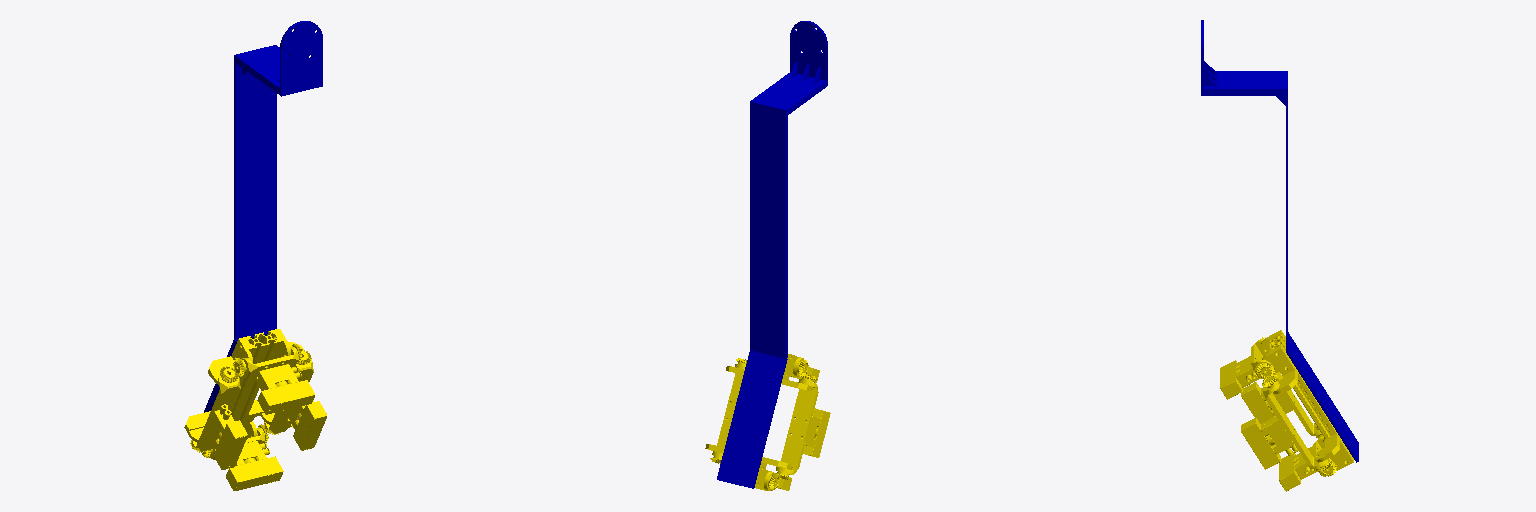
robot.urdf — S20:
<?xml version="1.0" ?>
<!-- =================================================================================== -->
<!-- |    This document was autogenerated by xacro from S20.urdf.xacro                 | -->
<!-- |    EDITING THIS FILE BY HAND IS NOT RECOMMENDED                                 | -->
<!-- =================================================================================== -->
<robot name="S20">
  <material name="black">
    <color rgba="0.0 0.0 0.0 1.0"/>
  </material>
  <material name="blue">
    <color rgba="0.0 0.0 0.8 1.0"/>
  </material>
  <material name="green">
    <color rgba="0.0 0.8 0.0 1.0"/>
  </material>
  <material name="grey">
    <color rgba="0.2 0.2 0.2 1.0"/>
  </material>
  <material name="orange">
    <color rgba="1.0 0.4235294117647059 0.0392156862745098 1.0"/>
  </material>
  <material name="brown">
    <color rgba="0.8705882352941177 0.8117647058823529 0.7647058823529411 1.0"/>
  </material>
  <material name="red">
    <color rgba="0.8 0.0 0.0 1.0"/>
  </material>
  <material name="white">
    <color rgba="1.0 1.0 1.0 1.0"/>
  </material>
  <material name="metal">
    <color rgba="0.768627450980392 0.749019607843137 0.729411764705882 1"/>
  </material>
  <material name="metal_grey">
    <color rgba="0.501960784313725 0.501960784313725 0.501960784313725 1"/>
  </material>
  <material name="metal_white">
    <color rgba="0.866666666666667 0.866666666666667 0.890196078431373 1"/>
  </material>
  <!-- ros_control plugin -->
  <gazebo>
    <plugin filename="libgazebo_ros_control.so" name="gazebo_ros_control">
      <robotSimType>gazebo_ros_control/DefaultRobotHWSim</robotSimType>
      <legacyModeNS>true</legacyModeNS>
    </plugin>
  </gazebo>
  <gazebo reference="elfin_link2">
    <visual name="visual">
      <material>
        <script>
          <uri>file:/[local-path]/scripts/gazebo.material</uri>
          <name>Gazebo/Grey</name>
        </script>
      </material>
    </visual>
  </gazebo>
  <gazebo reference="elfin_link4">
    <visual name="visual">
      <material>
        <script>
          <uri>file:/[local-path]/scripts/gazebo.material</uri>
          <name>Gazebo/Grey</name>
        </script>
      </material>
    </visual>
  </gazebo>
  <transmission name="elfin_joint1_trans">
    <type>transmission_interface/SimpleTransmission</type>
    <joint name="elfin_joint1">
      <hardwareInterface>hardware_interface/PositionJointInterface</hardwareInterface>
    </joint>
    <actuator name="elfin_joint1_motor">
      <mechanicalReduction>1</mechanicalReduction>
    </actuator>
  </transmission>
  <transmission name="elfin_joint2_trans">
    <type>transmission_interface/SimpleTransmission</type>
    <joint name="elfin_joint2">
      <hardwareInterface>hardware_interface/PositionJointInterface</hardwareInterface>
    </joint>
    <actuator name="elfin_joint2_motor">
      <mechanicalReduction>1</mechanicalReduction>
    </actuator>
  </transmission>
  <transmission name="elfin_joint3_trans">
    <type>transmission_interface/SimpleTransmission</type>
    <joint name="elfin_joint3">
      <hardwareInterface>hardware_interface/PositionJointInterface</hardwareInterface>
    </joint>
    <actuator name="elfin_joint3_motor">
      <mechanicalReduction>1</mechanicalReduction>
    </actuator>
  </transmission>
  <transmission name="elfin_joint4_trans">
    <type>transmission_interface/SimpleTransmission</type>
    <joint name="elfin_joint4">
      <hardwareInterface>hardware_interface/PositionJointInterface</hardwareInterface>
    </joint>
    <actuator name="elfin_joint4_motor">
      <mechanicalReduction>1</mechanicalReduction>
    </actuator>
  </transmission>
  <transmission name="elfin_joint5_trans">
    <type>transmission_interface/SimpleTransmission</type>
    <joint name="elfin_joint5">
      <hardwareInterface>hardware_interface/PositionJointInterface</hardwareInterface>
    </joint>
    <actuator name="elfin_joint5_motor">
      <mechanicalReduction>1</mechanicalReduction>
    </actuator>
  </transmission>
  <transmission name="elfin_joint6_trans">
    <type>transmission_interface/SimpleTransmission</type>
    <joint name="elfin_joint6">
      <hardwareInterface>hardware_interface/PositionJointInterface</hardwareInterface>
    </joint>
    <actuator name="elfin_joint6_motor">
      <mechanicalReduction>1</mechanicalReduction>
    </actuator>
  </transmission>
  <link name="world"/>
  <joint name="world_base" type="fixed">
    <origin rpy="0 0 0" xyz="0 0 0"/>
    <parent link="world"/>
    <child link="elfin_base_link"/>
  </joint>
  <link name="elfin_base_link"/>
  <joint name="elfin_base_joint" type="fixed">
    <origin rpy="0 0 0" xyz="0 0 0"/>
    <parent link="elfin_base_link"/>
    <child link="elfin_base"/>
  </joint>
  <link name="elfin_base">
    <inertial>
      <origin rpy="0 0 0" xyz="-0.00131650768656017 3.86349405459754E-05 0.0343213199540785"/>
      <mass value="2.32181468230125"/>
      <inertia ixx="0.00741739022505177" ixy="-9.4225231258528E-05" ixz="-5.45619950886553E-05" iyy="0.00699483778046143" iyz="1.30022773204213E-06" izz="0.0123390065438587"/>
    </inertial>
    <visual>
      <origin rpy="0 0 0" xyz="0 0 0"/>
      <geometry>
        <mesh filename="package://elfin_description/meshes/S20/elfin_base.STL"/>
      </geometry>
      <material name="">
        <color rgba="0.752941176470588 0.752941176470588 0.752941176470588 1"/>
      </material>
    </visual>
    <collision>
      <origin rpy="0 0 0" xyz="0 0 0"/>
      <geometry>
        <mesh filename="package://elfin_description/meshes/S20/elfin_base.STL"/>
      </geometry>
    </collision>
  </link>
  <link name="elfin_link1">
    <inertial>
      <origin rpy="0 0 0" xyz="-1.0792519167212E-07 -0.0224399626110038 0.00175002240516534"/>
      <mass value="6.93455742496729"/>
      <inertia ixx="0.0460589183335357" ixy="5.43718136375216E-07" ixz="2.96738634298801E-07" iyy="0.0375916708812216" iyz="-0.000245581780149179" izz="0.0394268304468804"/>
    </inertial>
    <visual>
      <origin rpy="0 0 0" xyz="0 0 0"/>
      <geometry>
        <mesh filename="package://elfin_description/meshes/S20/elfin_link1.STL"/>
      </geometry>
      <material name="">
        <color rgba="0.898039215686275 0.917647058823529 0.929411764705882 1"/>
      </material>
    </visual>
    <collision>
      <origin rpy="0 0 0" xyz="0 0 0"/>
      <geometry>
        <mesh filename="package://elfin_description/meshes/S20/elfin_link1.STL"/>
      </geometry>
    </collision>
  </link>
  <joint name="elfin_joint1" type="revolute">
    <origin rpy="0 0 0" xyz="0 0 0.171"/>
    <parent link="elfin_base"/>
    <child link="elfin_link1"/>
    <axis xyz="0 0 1"/>
    <limit effort="200" lower="-6.28" upper="6.28" velocity="1.57"/>
  </joint>
  <link name="elfin_link2">
    <inertial>
      <origin rpy="0 0 0" xyz="-0.370229694350317 9.38128437405483E-07 0.000899041883029139"/>
      <mass value="18.8395085758056"/>
      <inertia ixx="0.0687507132351259" ixy="-5.05507420279161E-07" ixz="-6.41343868263508E-05" iyy="0.411200291693132" iyz="-1.80729528146994E-07" izz="0.40138597350588"/>
    </inertial>
    <visual>
      <origin rpy="0 0 0" xyz="0 0 0"/>
      <geometry>
        <mesh filename="package://elfin_description/meshes/S20/elfin_link2.STL"/>
      </geometry>
      <material name="">
        <color rgba="0.752941176470588 0.752941176470588 0.752941176470588 1"/>
      </material>
    </visual>
    <collision>
      <origin rpy="0 0 0" xyz="0 0 0"/>
      <geometry>
        <mesh filename="package://elfin_description/meshes/S20/elfin_link2.STL"/>
      </geometry>
    </collision>
  </link>
  <joint name="elfin_joint2" type="revolute">
    <origin rpy="1.5708 0 0" xyz="0 -0.2295 0"/>
    <parent link="elfin_link1"/>
    <child link="elfin_link2"/>
    <axis xyz="0 0 1"/>
    <limit effort="200" lower="-3.3158" upper="0.1745" velocity="1.57"/>
  </joint>
  <link name="elfin_link3">
    <inertial>
      <origin rpy="0 0 0" xyz="0.310973076601113 -4.7405306624615E-09 0.0109938899740937"/>
      <mass value="7.53508270364931"/>
      <inertia ixx="0.0133872719937165" ixy="1.91460600478011E-07" ixz="0.00152175061957157" iyy="0.11837455186459" iyz="-2.26041817837737E-08" izz="0.116582348081593"/>
    </inertial>
    <visual>
      <origin rpy="0 0 0" xyz="0 0 0"/>
      <geometry>
        <mesh filename="package://elfin_description/meshes/S20/elfin_link3.STL"/>
      </geometry>
      <material name="">
        <color rgba="0.752941176470588 0.752941176470588 0.752941176470588 1"/>
      </material>
    </visual>
    <collision>
      <origin rpy="0 0 0" xyz="0 0 0"/>
      <geometry>
        <mesh filename="package://elfin_description/meshes/S20/elfin_link3.STL"/>
      </geometry>
    </collision>
  </link>
  <joint name="elfin_joint3" type="revolute">
    <origin rpy="0 0 3.1416" xyz="-0.85 0 -0.1885"/>
    <parent link="elfin_link2"/>
    <child link="elfin_link3"/>
    <axis xyz="0 0 1"/>
    <limit effort="200" lower="-2.9319" upper="2.9319" velocity="1.57"/>
  </joint>
  <link name="elfin_link4">
    <inertial>
      <origin rpy="0 0 0" xyz="8.5204157129759E-07 -0.00559612992738279 0.124499710924349"/>
      <mass value="1.26777180180805"/>
      <inertia ixx="0.00300888445161096" ixy="1.64612435809042E-08" ixz="3.62281943568331E-08" iyy="0.00214465218602862" iyz="9.35786831203314E-05" izz="0.00239761638151984"/>
    </inertial>
    <visual>
      <origin rpy="0 0 0" xyz="0 0 0"/>
      <geometry>
        <mesh filename="package://elfin_description/meshes/S20/elfin_link4.STL"/>
      </geometry>
      <material name="">
        <color rgba="0.898039215686275 0.917647058823529 0.929411764705882 1"/>
      </material>
    </visual>
    <collision>
      <origin rpy="0 0 0" xyz="0 0 0"/>
      <geometry>
        <mesh filename="package://elfin_description/meshes/S20/elfin_link4.STL"/>
      </geometry>
    </collision>
  </link>
  <joint name="elfin_joint4" type="revolute">
    <origin rpy="0 0 0" xyz="0.712 0 0"/>
    <parent link="elfin_link3"/>
    <child link="elfin_link4"/>
    <axis xyz="0 0 1"/>
    <limit effort="104" lower="-6.28" upper="6.28" velocity="1.57"/>
  </joint>
  <link name="elfin_link5">
    <inertial>
      <origin rpy="0 0 0" xyz="-1.58900480728974E-06 0.00559613044782842 0.124499711309393"/>
      <mass value="1.26777180180803"/>
      <inertia ixx="0.00300888445161093" ixy="1.64612435696446E-08" ixz="-3.62281943491141E-08" iyy="0.00214465218602857" iyz="-9.35786831203246E-05" izz="0.00239761638151982"/>
    </inertial>
    <visual>
      <origin rpy="0 0 0" xyz="0 0 0"/>
      <geometry>
        <mesh filename="package://elfin_description/meshes/S20/elfin_link5.STL"/>
      </geometry>
      <material name="">
        <color rgba="0.752941176470588 0.752941176470588 0.752941176470588 1"/>
      </material>
    </visual>
    <collision>
      <origin rpy="0 0 0" xyz="0 0 0"/>
      <geometry>
        <mesh filename="package://elfin_description/meshes/S20/elfin_link5.STL"/>
      </geometry>
    </collision>
  </link>
  <joint name="elfin_joint5" type="revolute">
    <origin rpy="-1.5708 0 0" xyz="0 0 0.138"/>
    <parent link="elfin_link4"/>
    <child link="elfin_link5"/>
    <axis xyz="0 0 1"/>
    <limit effort="34" lower="-6.28" upper="6.28" velocity="1.57"/>
  </joint>
  <link name="elfin_link6">
    <inertial>
      <origin rpy="0 0 0" xyz="-7.47115137089693E-07 0.000102435646244473 0.0904183015693256"/>
      <mass value="0.468079508708449"/>
      <inertia ixx="0.000412770805513074" ixy="1.60636639637837E-08" ixz="-3.02343967687703E-08" iyy="0.000415704740293176" iyz="1.46595766333508E-07" izz="0.000530952415351683"/>
    </inertial>
    <visual>
      <origin rpy="0 0 0" xyz="0 0 0"/>
      <geometry>
        <mesh filename="package://elfin_description/meshes/S20/elfin_link6.STL"/>
      </geometry>
      <material name="">
        <color rgba="0.752941176470588 0.752941176470588 0.752941176470588 1"/>
      </material>
    </visual>
    <collision>
      <origin rpy="0 0 0" xyz="0 0 0"/>
      <geometry>
        <mesh filename="package://elfin_description/meshes/S20/elfin_link6.STL"/>
      </geometry>
    </collision>
  </link>
  <joint name="elfin_joint6" type="revolute">
    <origin rpy="1.5708 0 0" xyz="0 0 0.138"/>
    <parent link="elfin_link5"/>
    <child link="elfin_link6"/>
    <axis xyz="0 0 1"/>
    <limit effort="34" lower="-6.28" upper="6.28" velocity="1.57"/>
  </joint>
  <link name="elfin_end_link">
  </link>
  <joint name="elfin_end_joint" type="fixed">
    <origin rpy="0 0 3.1416" xyz="0 0 0.1257"/>
    <parent link="elfin_link6"/>
    <child link="elfin_end_link"/>
  </joint>
  <link name="ee_link">
    <visual>
      <origin rpy="0 0 0" xyz="0 0 0"/>
      <geometry>
        <mesh filename="package://elfin_description/meshes/S20/ee_link.STL"/>
      </geometry>
      <material name="">
        <color rgba="0 0 0.8 1"/>
      </material>
    </visual>
    <collision>
      <origin rpy="0 0 0" xyz="0 0 0"/>
      <geometry>
        <mesh filename="package://elfin_description/meshes/S20/ee_link.STL"/>
      </geometry>
    </collision>
  </link>
  <joint name="ee_link_joint" type="fixed">
    <origin rpy="-1.5707 0 1.5707" xyz="0.035 -0.155 0"/>
    <parent link="elfin_end_link"/>
    <child link="ee_link"/>
  </joint>
  <link name="gripper_link0">
    <visual>
      <origin rpy="0 0 0" xyz="0 0 0"/>
      <geometry>
        <mesh filename="package://elfin_description/meshes/S20/gripper_link.STL"/>
      </geometry>
      <material name="">
        <color rgba="0 0 0.8 1"/>
      </material>
    </visual>
    <collision>
      <origin rpy="0 0 0" xyz="0 0 0"/>
      <geometry>
        <mesh filename="package://elfin_description/meshes/S20/gripper_link.STL"/>
      </geometry>
    </collision>
  </link>
  <joint name="gripper_link_joint0" type="fixed">
    <origin rpy="1.5707 0 0" xyz="-0.1 0.124 0"/>
    <parent link="ee_link"/>
    <child link="gripper_link0"/>
  </joint>
  <link name="gripper_link1">
    <visual>
      <origin rpy="0 0 0" xyz="0 0 0"/>
      <geometry>
        <mesh filename="package://elfin_description/meshes/S20/gripper_link.STL"/>
      </geometry>
      <material name="">
        <color rgba="0 0 0.8 1"/>
      </material>
    </visual>
    <collision>
      <origin rpy="0 0 0" xyz="0 0 0"/>
      <geometry>
        <mesh filename="package://elfin_description/meshes/S20/gripper_link.STL"/>
      </geometry>
    </collision>
  </link>
  <joint name="gripper_link_joint1" type="fixed">
    <origin rpy="0 0 0" xyz="-0.1 0 0"/>
    <parent link="gripper_link0"/>
    <child link="gripper_link1"/>
  </joint>
  <link name="gripper_link2">
    <visual>
      <origin rpy="0 0 0" xyz="0 0 0"/>
      <geometry>
        <mesh filename="package://elfin_description/meshes/S20/gripper_link.STL"/>
      </geometry>
      <material name="">
        <color rgba="0 0 0.8 1"/>
      </material>
    </visual>
    <collision>
      <origin rpy="0 0 0" xyz="0 0 0"/>
      <geometry>
        <mesh filename="package://elfin_description/meshes/S20/gripper_link.STL"/>
      </geometry>
    </collision>
  </link>
  <joint name="gripper_link_joint2" type="fixed">
    <origin rpy="0 0 0" xyz="-0.1 0 0"/>
    <parent link="gripper_link1"/>
    <child link="gripper_link2"/>
  </joint>
  <link name="gripper_link_ee1">
    <visual>
      <origin rpy="0 0 0" xyz="0 0 0"/>
      <geometry>
        <mesh filename="package://elfin_description/meshes/S20/gripper_link.STL"/>
      </geometry>
      <material name="">
        <color rgba="0 0 0.8 1"/>
      </material>
    </visual>
    <collision>
      <origin rpy="0 0 0" xyz="0 0 0"/>
      <geometry>
        <mesh filename="package://elfin_description/meshes/S20/gripper_link.STL"/>
      </geometry>
    </collision>
  </link>
  <joint name="gripper_link_joint_ee1" type="fixed">
    <origin rpy="0 -0.5235 0" xyz="-0.0866 0 -0.05"/>
    <parent link="gripper_link2"/>
    <child link="gripper_link_ee1"/>
  </joint>
  <link name="gripper_link_ee2">
    <visual>
      <origin rpy="0 0 0" xyz="0 0 0"/>
      <geometry>
        <mesh filename="package://elfin_description/meshes/S20/gripper_link.STL"/>
      </geometry>
      <material name="">
        <color rgba="0 0 0.8 1"/>
      </material>
    </visual>
    <collision>
      <origin rpy="0 0 0" xyz="0 0 0"/>
      <geometry>
        <mesh filename="package://elfin_description/meshes/S20/gripper_link.STL"/>
      </geometry>
    </collision>
  </link>
  <joint name="gripper_link_joint_ee2" type="fixed">
    <origin rpy="0 0 0" xyz="-0.1 0 0"/>
    <parent link="gripper_link_ee1"/>
    <child link="gripper_link_ee2"/>
  </joint>
  <link name="needle_gripper">
    <visual>
      <origin rpy="0 0 0" xyz="0 0 0"/>
      <geometry>
        <mesh filename="package://elfin_description/meshes/S20/needle_gripper.STL"/>
      </geometry>
      <material name="">
        <color rgba="1.0 0.92 0.016 1"/>
      </material>
    </visual>
    <collision>
      <origin rpy="0 0 0" xyz="0 0 0"/>
      <geometry>
        <mesh filename="package://elfin_description/meshes/S20/needle_gripper.STL"/>
      </geometry>
    </collision>
  </link>
  <joint name="gripper_joint" type="fixed">
    <origin rpy="-1.5708 0 0" xyz="0.106 0.0305 0.09"/>
    <parent link="gripper_link_ee2"/>
    <child link="needle_gripper"/>
  </joint>
</robot>

--- Facts derived from the render (not from the file) ---
The picture shows the robot from 3 angles, left to right: view 1: azimuth 30°, elevation 25°; view 2: azimuth 150°, elevation 25°; view 3: azimuth 270°, elevation 25°; orthographic projection.
Model S20 with 17 links and 16 joints (6 revolute, 10 fixed), rooted at world, posed every joint at zero.
Visible links, largest first — view 1: needle_gripper, ee_link, gripper_link0, gripper_link1, gripper_link2; view 2: ee_link, needle_gripper, gripper_link_ee2, gripper_link_ee1, gripper_link1, gripper_link0, gripper_link2; view 3: needle_gripper, ee_link, gripper_link_ee1, gripper_link_ee2.
Link boxes in pixels (bbox=[...]): needle_gripper: bbox=[184, 329, 326, 490]; ee_link: bbox=[234, 21, 322, 131]; gripper_link0: bbox=[234, 122, 276, 200]; gripper_link1: bbox=[234, 192, 276, 270]; gripper_link2: bbox=[234, 261, 276, 339]; ee_link: bbox=[750, 21, 827, 176]; needle_gripper: bbox=[705, 354, 830, 490]; gripper_link_ee2: bbox=[717, 415, 770, 488]; gripper_link_ee1: bbox=[733, 350, 787, 423]; gripper_link1: bbox=[750, 229, 787, 297]; gripper_link0: bbox=[750, 168, 787, 237]; gripper_link2: bbox=[750, 290, 787, 358]; needle_gripper: bbox=[1220, 330, 1353, 491]; ee_link: bbox=[1201, 20, 1287, 159]; gripper_link_ee1: bbox=[1286, 332, 1323, 407]; gripper_link_ee2: bbox=[1322, 389, 1358, 462].
Size in the robot's own frame: 0.14 by 0.224 by 0.7184 metres.
7 mesh visuals loaded from 10 distinct referenced files (3 binary STL); not drawn: 7 (reference not matched to a file when rendering).